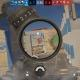Friend_label: (73, 35, 76, 38), (32, 40, 34, 42)
